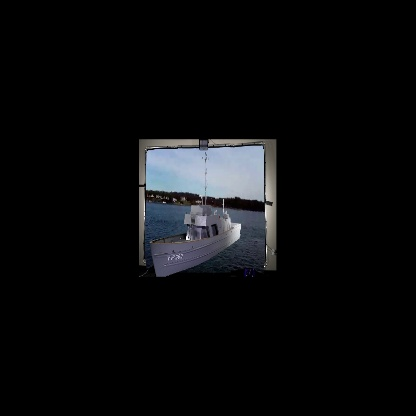YP689: (149, 150, 241, 276)
